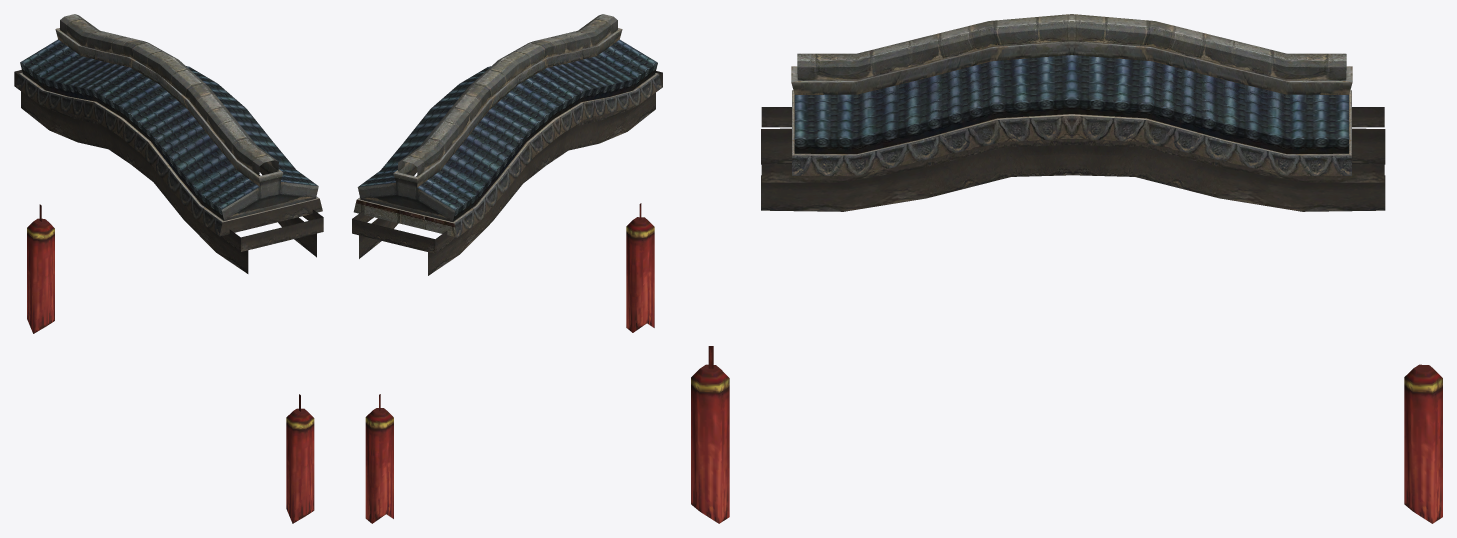
The model's file is jz_weiqiang05_53_54_6027out.fbx.
3 renders of one model, left to right at view 1: azimuth 30°, elevation 25°; view 2: azimuth 150°, elevation 25°; view 3: azimuth 270°, elevation 25°, orthographic. The views are drawn at different scales.
Visible parts, largest first — view 1: 0000_jz_weiqiang05, 0001_jz_weiqiang05; view 2: 0000_jz_weiqiang05, 0001_jz_weiqiang05; view 3: 0000_jz_weiqiang05, 0001_jz_weiqiang05.
Part boxes in pixels (box(x1,y1,x2,y2)): 0000_jz_weiqiang05: box(14, 14, 323, 273); 0001_jz_weiqiang05: box(27, 204, 314, 523); 0000_jz_weiqiang05: box(352, 14, 662, 275); 0001_jz_weiqiang05: box(365, 203, 654, 523); 0000_jz_weiqiang05: box(761, 14, 1385, 211); 0001_jz_weiqiang05: box(691, 346, 1442, 523).
Size of the model in its own units: 1.44 by 4.85 by 6.61.
